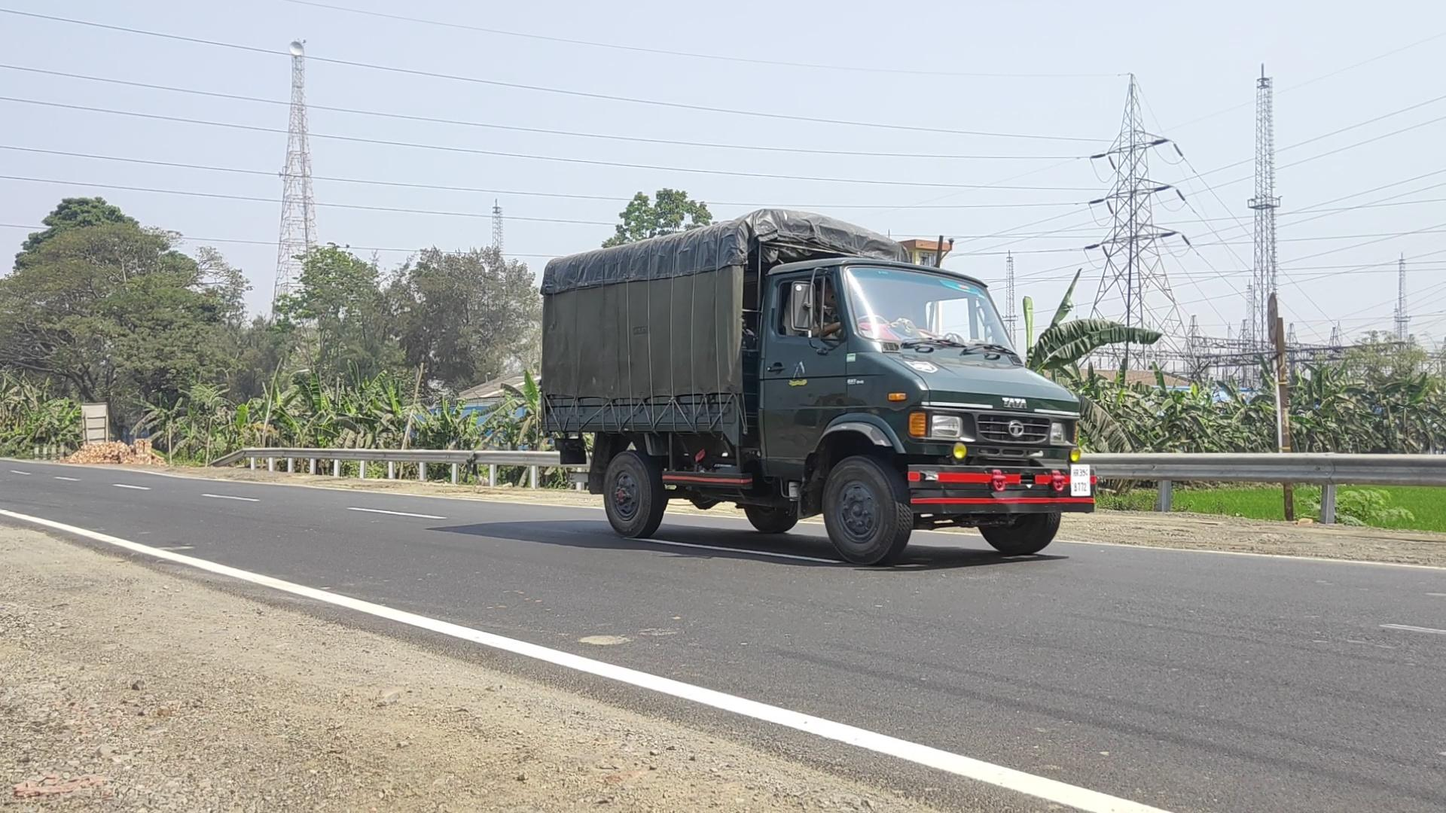truck: (540, 208, 1097, 568)
